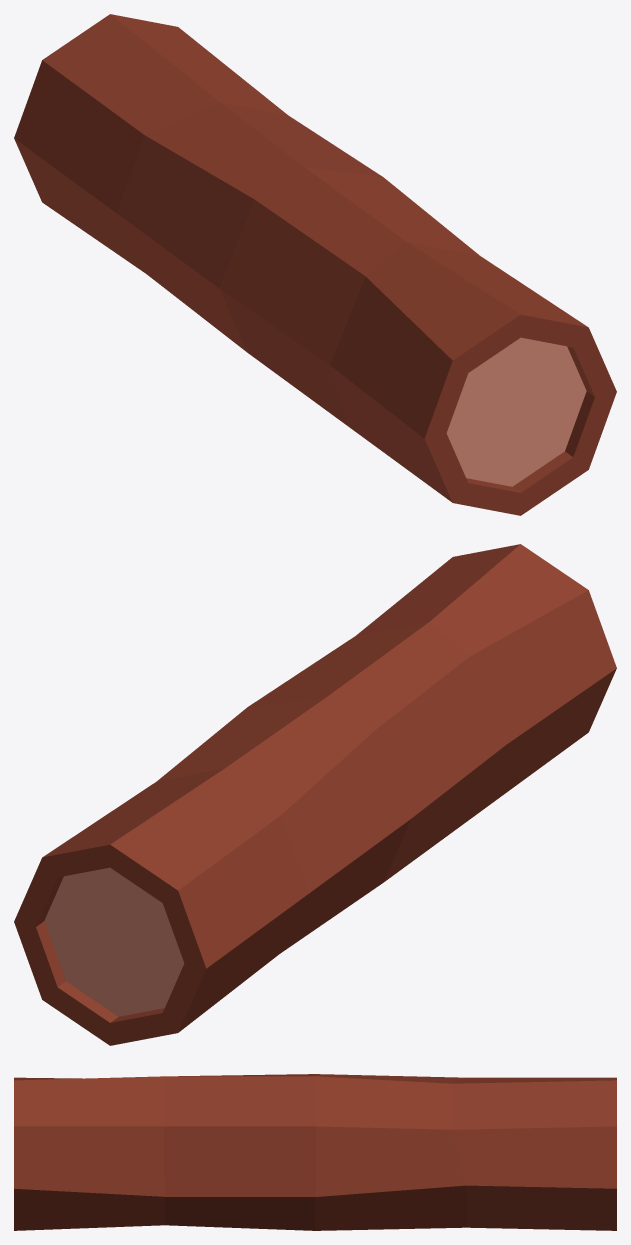
Rendered from log_8a.fbx.
3 views of the same model, one above another, from view 1: azimuth 30°, elevation 25°; view 2: azimuth 150°, elevation 25°; view 3: azimuth 270°, elevation 25° (orthographic). The views are drawn at different scales.
Visible parts, largest first — view 1: log_8a; view 2: log_8a; view 3: log_8a.
Part boxes in pixels (x1=…): log_8a: x1=14, y1=14, x2=616, y2=515; log_8a: x1=14, y1=544, x2=616, y2=1045; log_8a: x1=14, y1=1074, x2=616, y2=1230.
Size of the model in its own units: 53.77 by 53.18 by 197.
